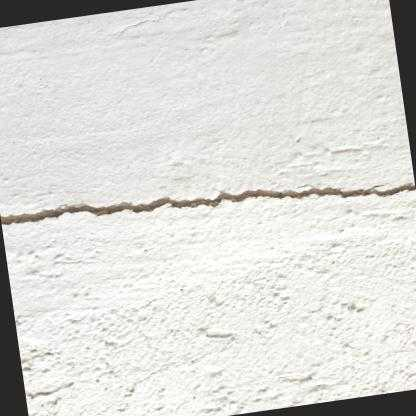crack: (0, 180, 415, 225)
